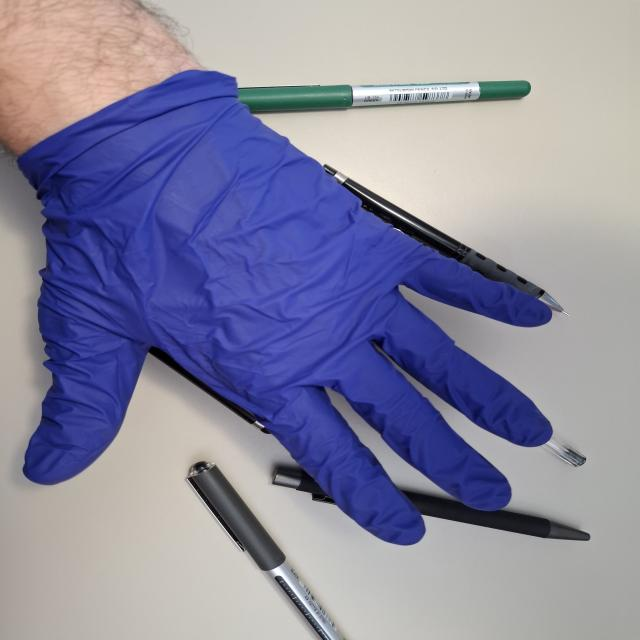glove_on: (14, 66, 559, 549)
